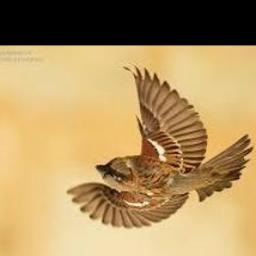Sparrow: (66, 67, 254, 229)
